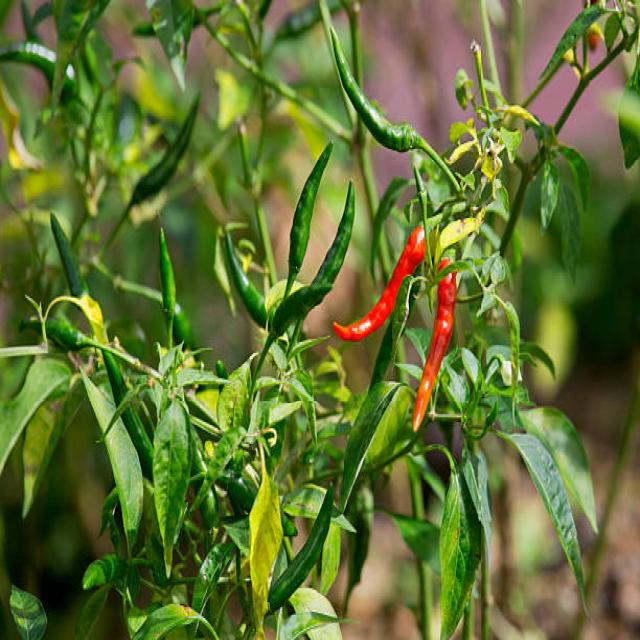Ripe: (334, 227, 425, 340), (412, 272, 456, 430)
Unripe: (331, 29, 450, 175), (269, 484, 332, 610), (284, 141, 332, 297), (313, 178, 356, 283), (226, 231, 265, 327), (272, 280, 334, 333), (82, 555, 126, 590)
